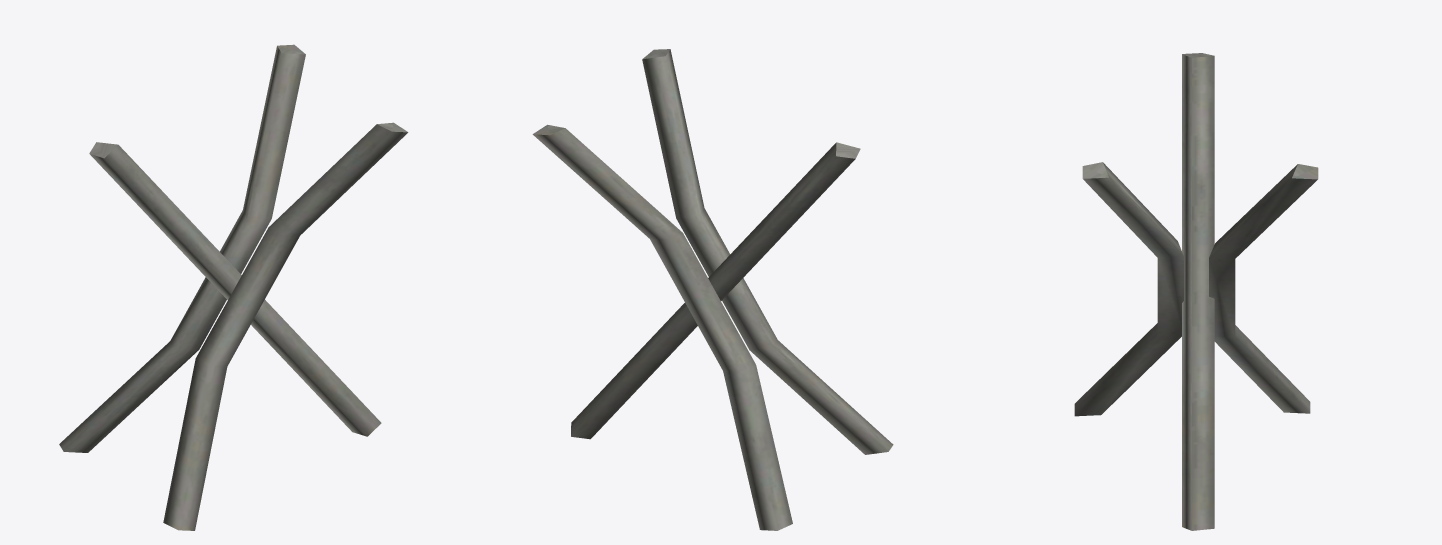
Rendered from eqp_camping_stool_tall_l1.fbx.
3 renders of one model, left to right at view 1: azimuth 30°, elevation 25°; view 2: azimuth 150°, elevation 25°; view 3: azimuth 270°, elevation 25°, orthographic.
Visible parts, largest first — view 1: mesh_node; view 2: mesh_node; view 3: mesh_node.
Boxes of the visible parts, x1=… form: mesh_node: x1=59, y1=44, x2=408, y2=530; mesh_node: x1=532, y1=49, x2=893, y2=530; mesh_node: x1=1074, y1=53, x2=1318, y2=530.
Bounding box in the file's own units: 0.4856 × 0.4265 × 0.4856.
1 material, 1 textured.
